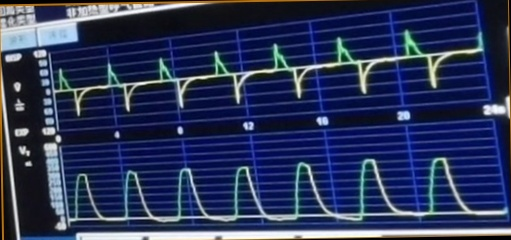Accumulation Flow: (55, 31, 458, 116)
Volume: (70, 153, 486, 227)
